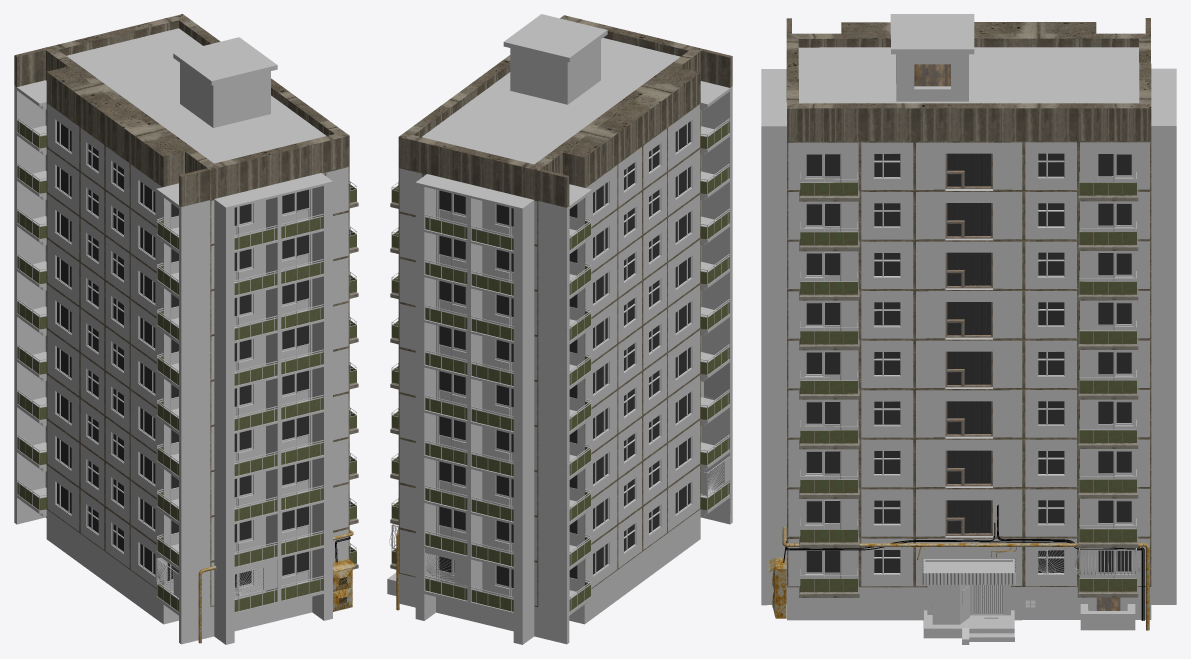
The model's file is nine-story building of the ussr.fbx.
3 renders of one model, left to right at view 1: azimuth 30°, elevation 25°; view 2: azimuth 150°, elevation 25°; view 3: azimuth 270°, elevation 25°, orthographic. The views are drawn at different scales.
Visible parts, largest first — view 1: facade.001, Roof_faundation.001, balcony.001, Window_frame.003, Window_frame.001, lift.001, lattice.001, Cube; view 2: facade.001, Roof_faundation.001, balcony.001, Window_frame.003, Window_frame.001, lift.001, lattice.001; view 3: facade.001, Roof_faundation.001, Window_frame.003, balcony.001, Window_frame.001, glass2.001, lift.001, porch.001, window_frame2.001, Gas_pipe.001, lattice.001, wires.001 (+2 smaller).
Boxes of the visible parts, bbox=[...] form: facade.001: bbox=[14, 80, 349, 644]; Roof_faundation.001: bbox=[14, 14, 349, 644]; balcony.001: bbox=[17, 117, 358, 611]; Window_frame.003: bbox=[57, 121, 308, 587]; Window_frame.001: bbox=[55, 120, 310, 599]; lift.001: bbox=[173, 37, 277, 127]; lattice.001: bbox=[156, 558, 277, 597]; Cube: bbox=[333, 558, 355, 611]; facade.001: bbox=[398, 81, 732, 644]; Roof_faundation.001: bbox=[387, 15, 732, 644]; balcony.001: bbox=[390, 118, 729, 611]; Window_frame.003: bbox=[439, 121, 690, 587]; Window_frame.001: bbox=[438, 120, 691, 598]; lift.001: bbox=[503, 14, 607, 104]; lattice.001: bbox=[389, 456, 729, 585]; facade.001: bbox=[761, 68, 1176, 605]; Roof_faundation.001: bbox=[786, 18, 1151, 630]; Window_frame.003: bbox=[806, 153, 1131, 572]; balcony.001: bbox=[799, 172, 1138, 597]; Window_frame.001: bbox=[805, 153, 1133, 578]; glass2.001: bbox=[947, 153, 990, 533]; lift.001: bbox=[890, 14, 974, 101]; porch.001: bbox=[922, 557, 1015, 644]; window_frame2.001: bbox=[945, 153, 992, 535]; Gas_pipe.001: bbox=[782, 527, 1149, 630]; lattice.001: bbox=[842, 543, 1141, 575]; wires.001: bbox=[783, 504, 1144, 620].
Size of the model in its own units: 1494 by 3430 by 2281.
